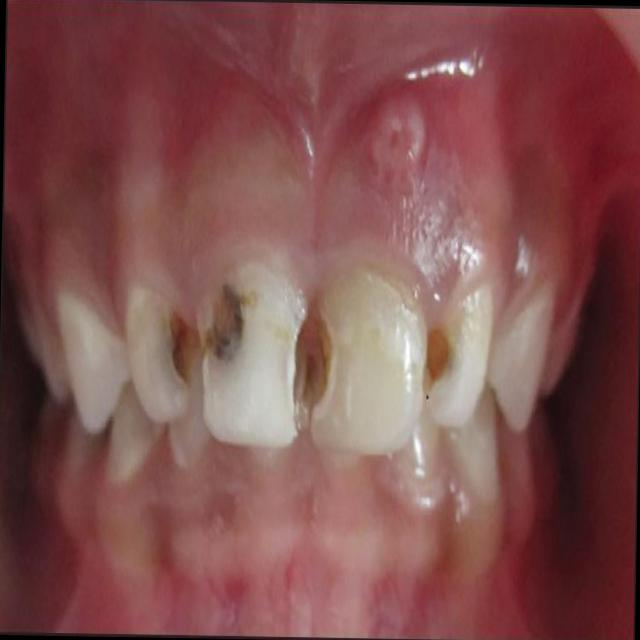Caries: (313, 315, 331, 403)
Cavity: (170, 311, 199, 387), (313, 315, 331, 403), (426, 327, 449, 390)
Tooth: (310, 271, 427, 456), (195, 261, 307, 447), (57, 292, 131, 430), (125, 287, 200, 423), (484, 284, 553, 431), (426, 283, 492, 427)
